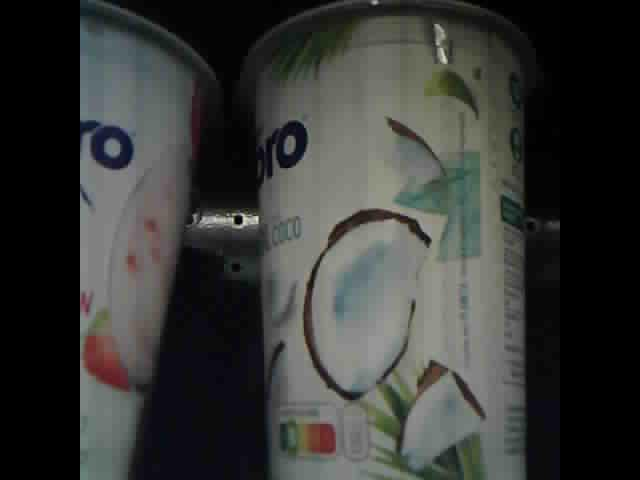alpro: (245, 1, 531, 479), (81, 1, 219, 480)
